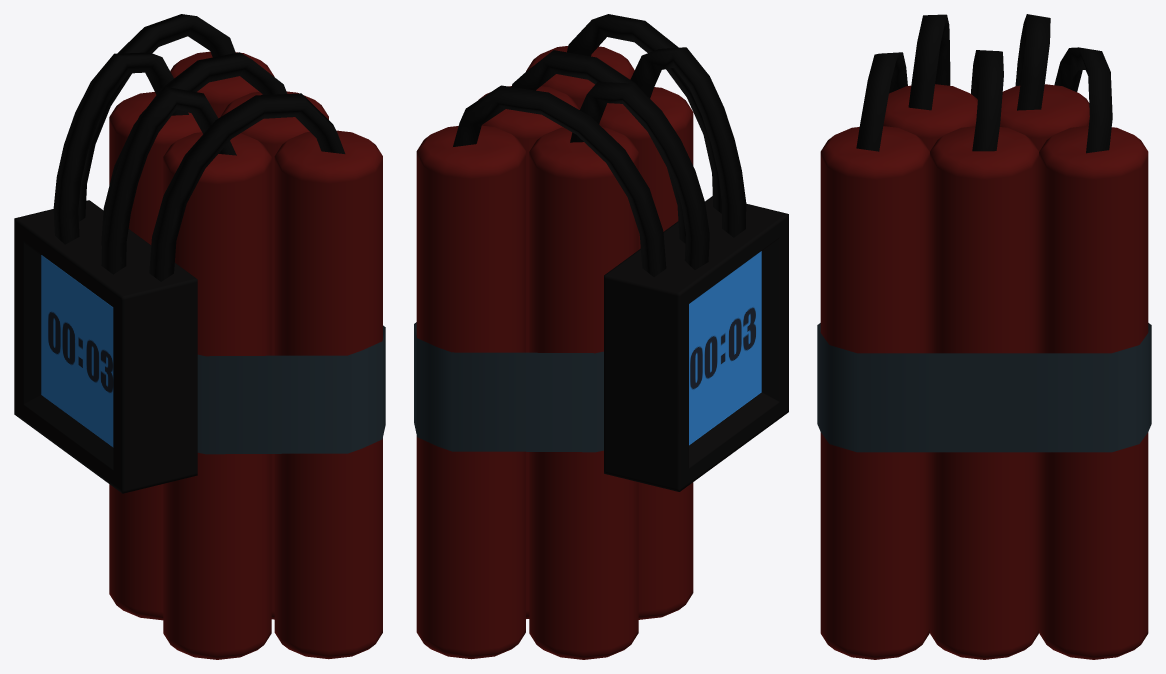
The model's file is TNTDigitalScreen.obj.
3 views of the same model, side by side, from view 1: azimuth 30°, elevation 25°; view 2: azimuth 150°, elevation 25°; view 3: azimuth 270°, elevation 25° (orthographic).
Visible parts, largest first — view 1: tnt.003, Panel, tnt.004, Tape, tnt.002, Wire.002, Wire.003, Wire.004, Wire, tnt, Wire.001, tnt.001; view 2: tnt.001, Panel, tnt.002, Tape, tnt.004, Wire, Wire.004, Wire.003, Wire.002, tnt, Wire.001, tnt.003; view 3: tnt.003, tnt.001, tnt, Tape, tnt.004, tnt.002, Wire, Wire.004, Wire.001, Wire.002, Wire.003.
Part boxes in pixels (x1,y1,x2,y2): tnt.003: (274,130,382,659); Panel: (14,200,197,493); tnt.004: (163,132,271,659); Tape: (197,325,385,454); tnt.002: (109,92,201,620); Wire.002: (149,93,345,281); Wire.003: (53,52,188,244); Wire.004: (101,87,236,274); Wire: (78,14,235,221); tnt: (220,91,328,619); Wire.001: (101,52,287,245); tnt.001: (170,51,274,118); tnt.001: (416,125,525,659); Panel: (604,196,788,491); tnt.002: (529,127,638,659); Tape: (414,322,603,452); tnt.004: (599,87,693,619); Wire: (453,85,666,277); Wire.004: (630,47,746,237); Wire.003: (570,81,709,269); Wire.002: (567,14,722,213); tnt: (478,86,579,618); Wire.001: (511,50,685,243); tnt.003: (526,46,634,109); tnt.003: (820,126,929,659); tnt.001: (1039,125,1148,659); tnt: (930,126,1038,659); Tape: (817,323,1151,452); tnt.004: (883,84,977,151); tnt.002: (1000,84,1089,151); Wire: (1054,47,1112,153); Wire.004: (908,14,950,110); Wire.001: (971,50,1003,151); Wire.002: (856,52,907,151); Wire.003: (1015,14,1050,110).
Bounding box in the file's own units: 0.1355 × 0.2842 × 0.1528.
5 materials, 1 textured.
